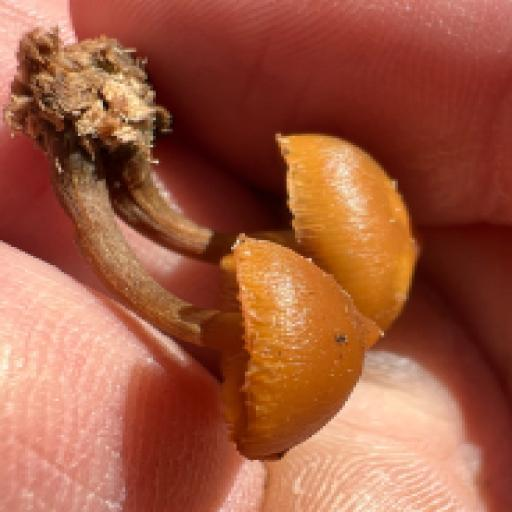mushroom: (12, 13, 421, 472)
